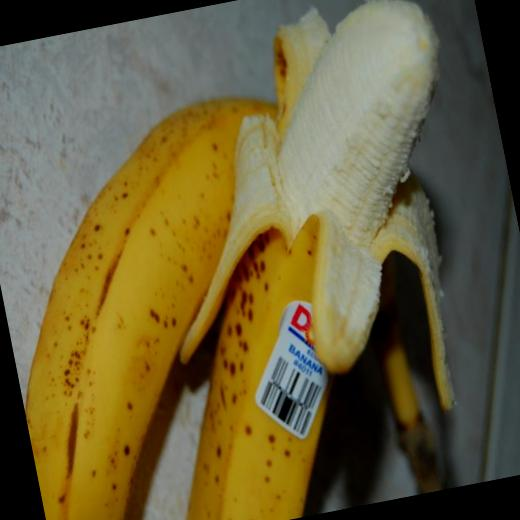Banana: (81, 0, 520, 520), (0, 85, 352, 520)
